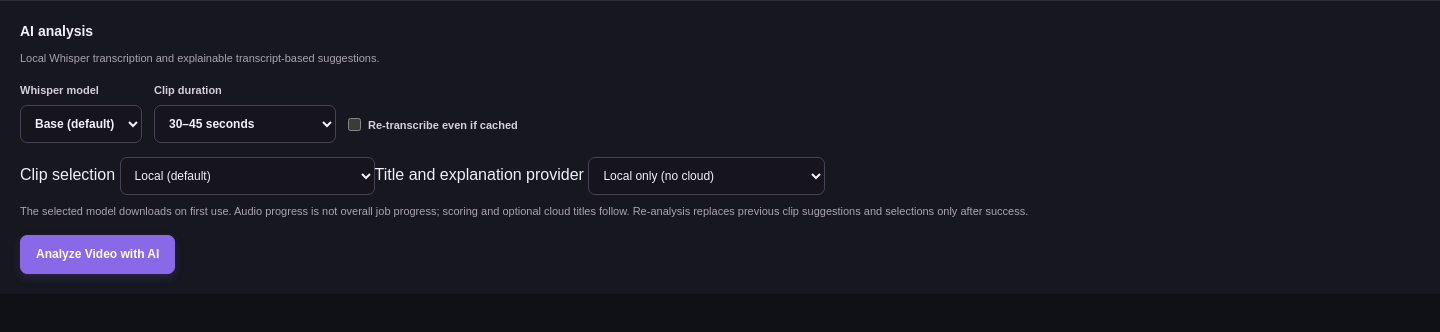
AI analysis › opts in to Cloud AI and discloses fallback and privacy
The width and height of the screenshot is (1440, 332).
Later steps or results of the test are not shown.
Select "Cloud AI (Groq with Gemini fallback)" in the dropdown labelled "Title and explanation provider" at [707, 176], box [588,157,825,195]
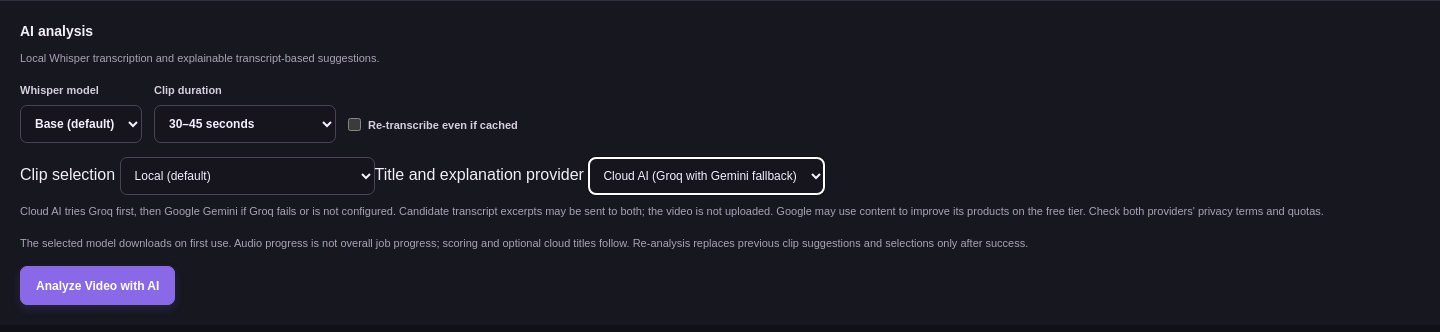
Now the text "may be sent to both" is shown, box [20,205,1324,217]
